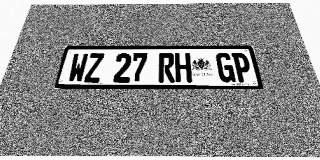2: (113, 53, 132, 82)
7: (130, 53, 148, 82)
G: (215, 53, 236, 82)
H: (175, 53, 192, 82)
P: (231, 53, 253, 82)
R: (158, 53, 175, 82)
W: (67, 53, 89, 82)
Z: (84, 53, 104, 82)
